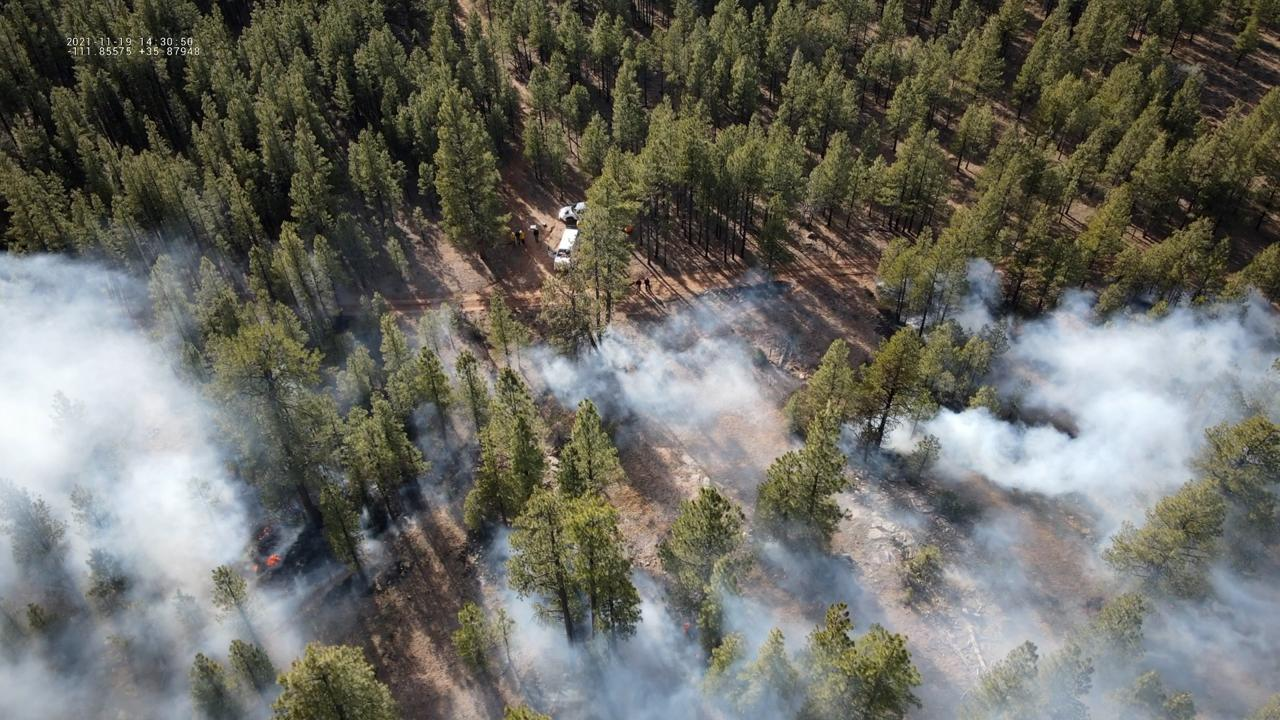fire: (264, 553, 281, 567), (680, 621, 691, 634), (250, 564, 261, 575), (624, 226, 628, 232)
smoke: (0, 251, 1280, 720)
